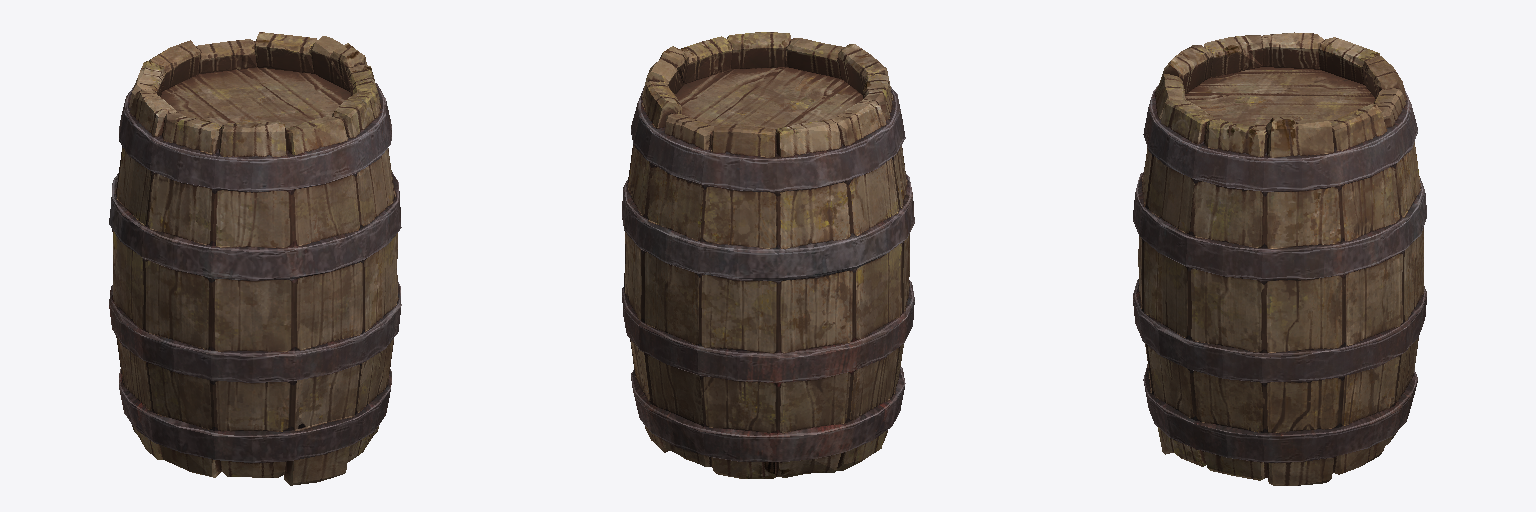
3 renders of one model, left to right at view 1: azimuth 30°, elevation 25°; view 2: azimuth 150°, elevation 25°; view 3: azimuth 270°, elevation 25°, orthographic.
Visible parts, largest first — view 1: Barrel_L.001; view 2: Barrel_L.001; view 3: Barrel_L.001.
Part boxes in pixels (x1,y1,x2,y2): Barrel_L.001: (109, 32, 401, 485); Barrel_L.001: (622, 32, 914, 478); Barrel_L.001: (1133, 32, 1426, 485).
Size of the model in its own units: 0.9052 by 1.25 by 0.9099.
Materials: 1 (1 with a texture image).